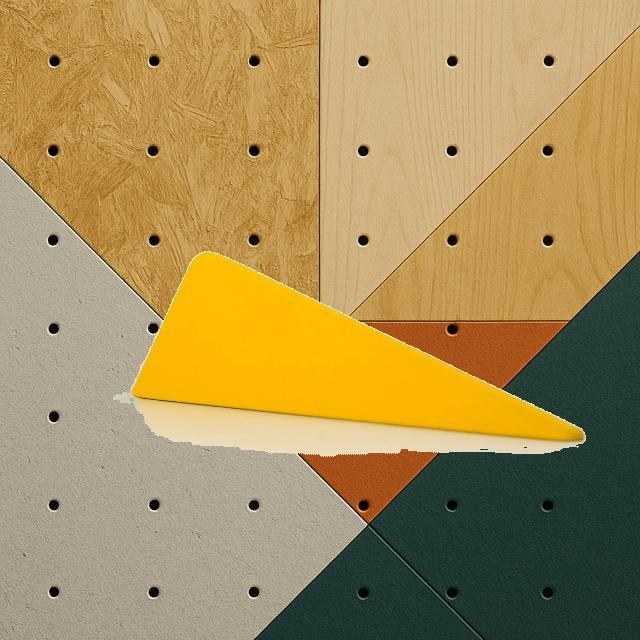Volume: (129, 250, 585, 446)
